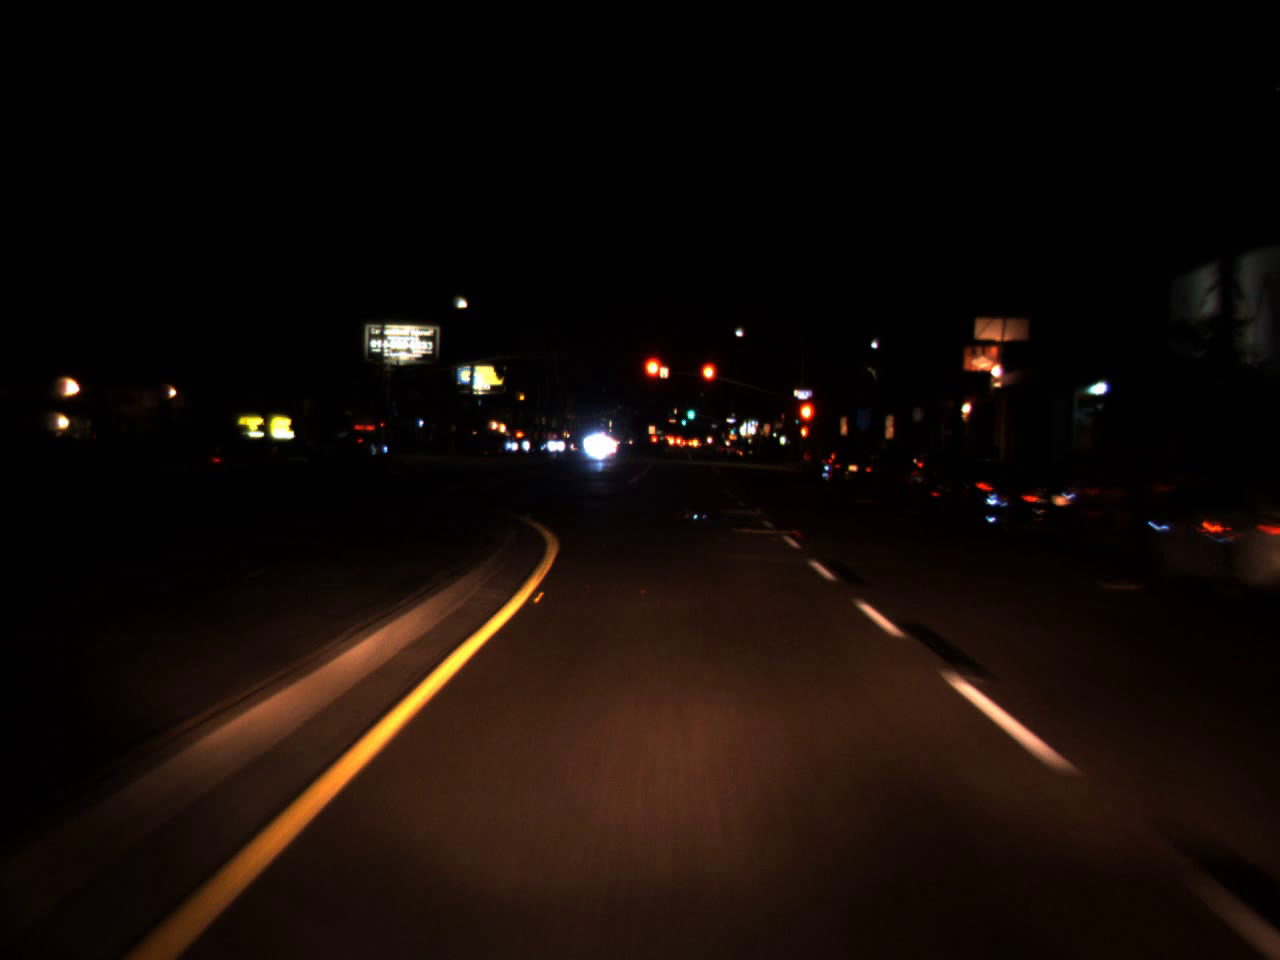go: (685, 402, 695, 419), (680, 411, 687, 429), (727, 421, 734, 433)
stop: (642, 353, 666, 401), (796, 400, 817, 443), (698, 360, 717, 403)
